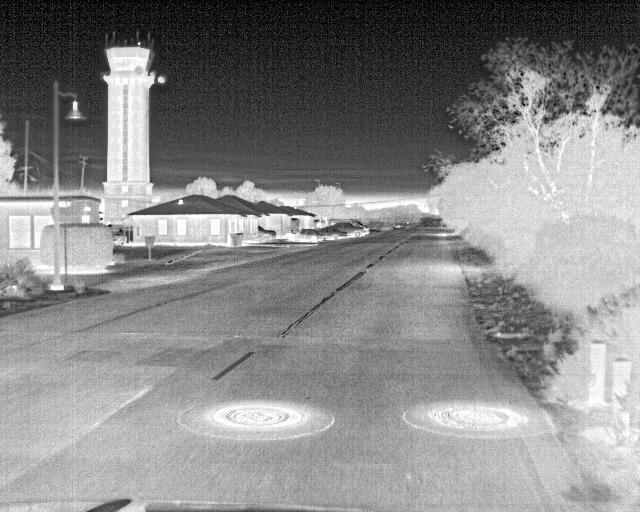car: (283, 229, 325, 245), (326, 225, 357, 238), (344, 219, 367, 236), (315, 228, 344, 241), (255, 224, 277, 241)
